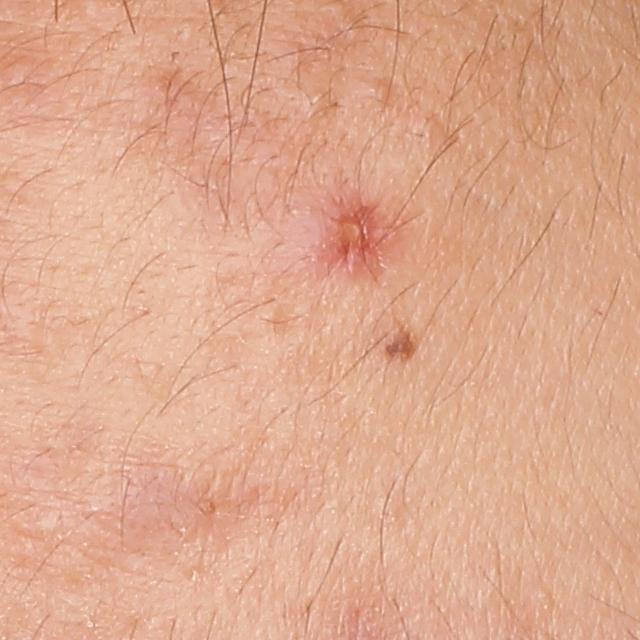comedo: (364, 74, 396, 102)
